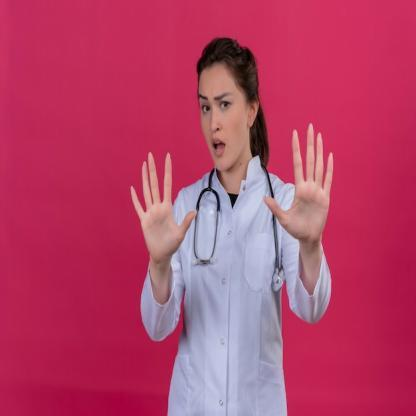stop: (264, 122, 338, 242), (129, 145, 200, 263)
